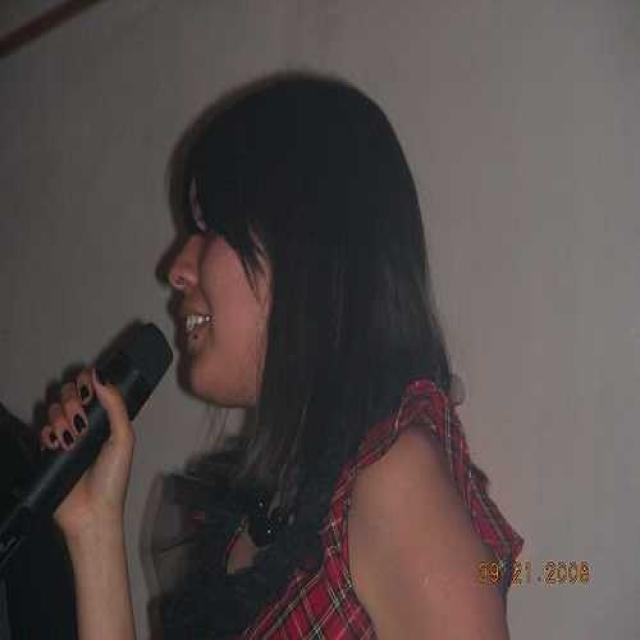microphone: (4, 320, 176, 566)
